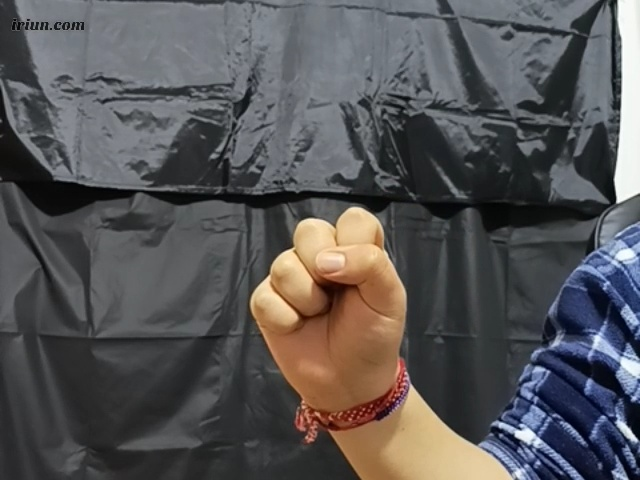S: (248, 202, 411, 402)
